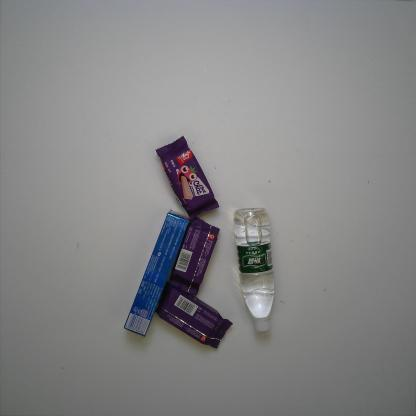Dessert: (154, 133, 220, 221), (152, 283, 235, 351), (166, 214, 221, 299)
Drink: (232, 205, 278, 335)
Personal Hygiene: (120, 209, 190, 338)
